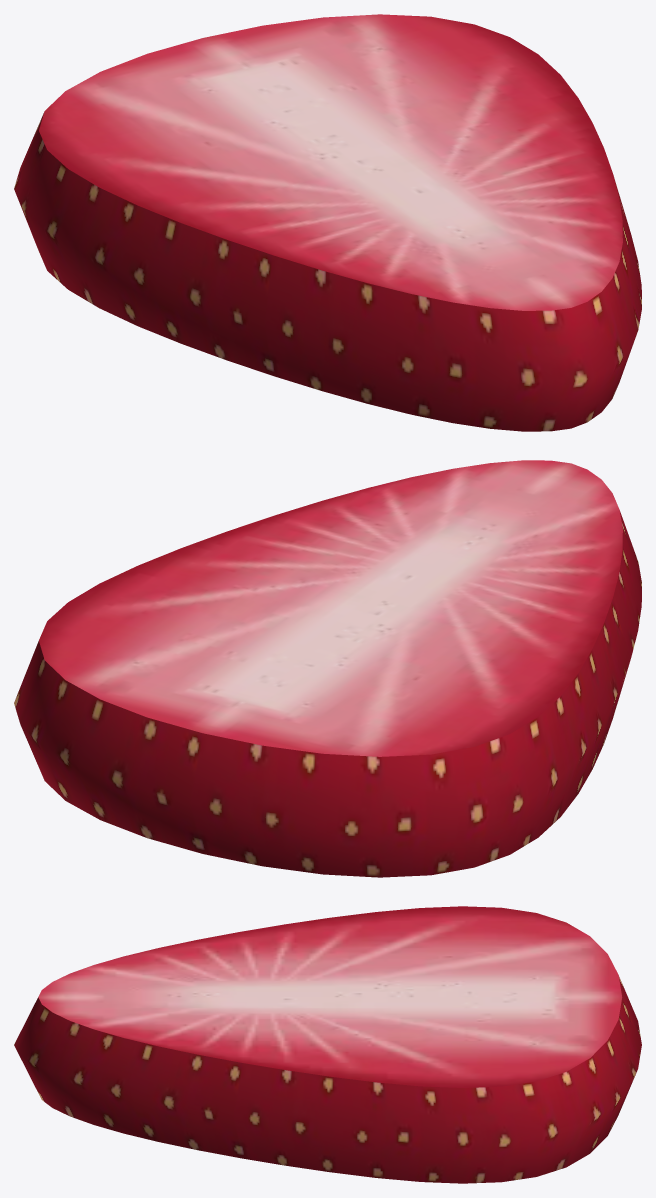
Rendered from topping-morango.glb.
3 renders of one model, top to bottom at view 1: azimuth 30°, elevation 25°; view 2: azimuth 150°, elevation 25°; view 3: azimuth 270°, elevation 25°, orthographic. The views are drawn at different scales.
Visible parts, largest first — view 1: topping-morango; view 2: topping-morango; view 3: topping-morango.
Boxes of the visible parts, bbox=[...] form: topping-morango: bbox=[14, 14, 641, 431]; topping-morango: bbox=[14, 460, 641, 877]; topping-morango: bbox=[14, 906, 641, 1183].
Size of the model in its own units: 0.0184 by 0.0042 by 0.025.
1 material, 1 textured.
